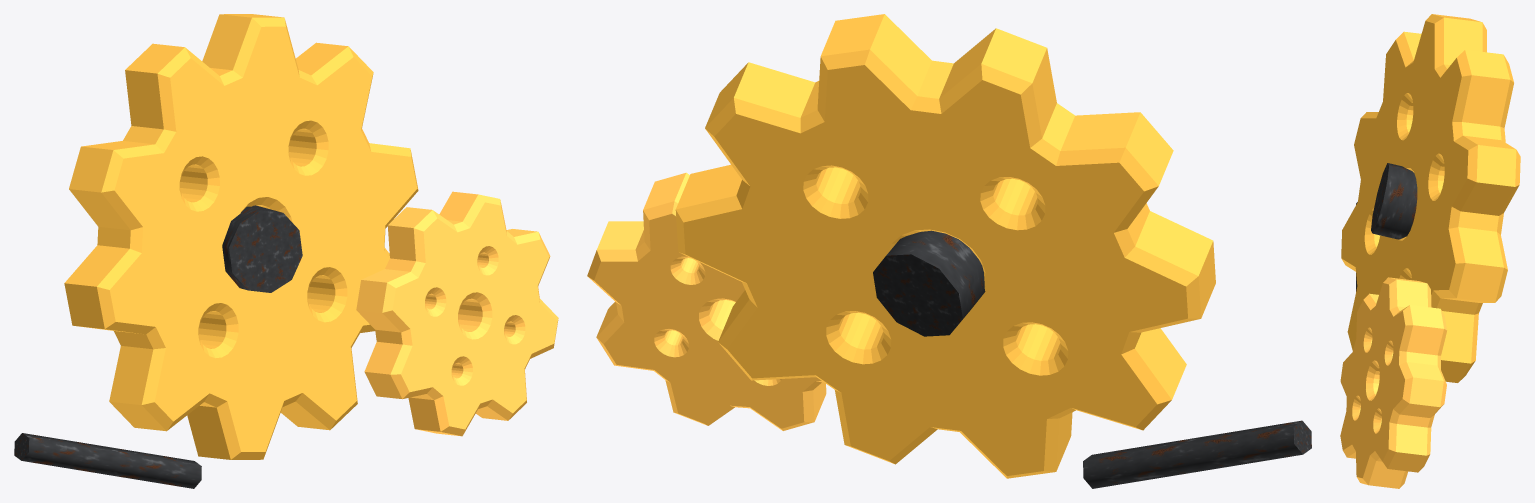
The model's file is brass.glb.
3 renders of one model, left to right at view 1: azimuth 30°, elevation 25°; view 2: azimuth 150°, elevation 25°; view 3: azimuth 270°, elevation 25°, orthographic. The views are drawn at different scales.
Parts seen in each view (by area): view 1: brass; view 2: brass; view 3: brass.
Part boxes in pixels (x1=…): brass: x1=14, y1=14, x2=558, y2=488; brass: x1=587, y1=14, x2=1311, y2=488; brass: x1=1340, y1=14, x2=1520, y2=488.
Size of the model in its own units: 0.2706 by 0.1926 by 0.088.
3 materials, 1 textured.
